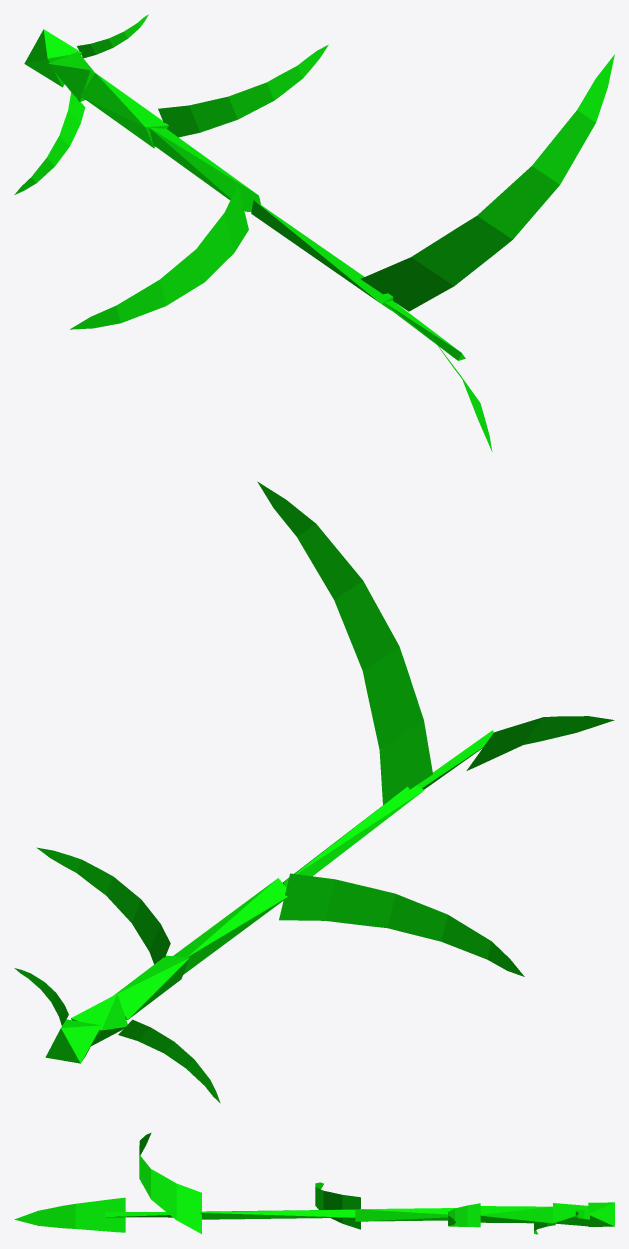
The model's file is usm_1_Beer_2018-08-08_3.obj.
3 views of the same model, one above another, from view 1: azimuth 30°, elevation 25°; view 2: azimuth 150°, elevation 25°; view 3: azimuth 270°, elevation 25° (orthographic). The views are drawn at different scales.
Parts seen in each view (by area): view 1: vid_12, vid_10, vid_8, vid_9, vid_7, vid_11, vid_6, vid_3, vid_5, vid_13, vid_4; view 2: vid_12, vid_10, vid_8, vid_9, vid_14, vid_7, vid_11, vid_6, vid_3, vid_5; view 3: vid_14, vid_12, vid_11, vid_7, vid_9, vid_10, vid_8, vid_5, vid_3, vid_13.
Part boxes in pixels (left/top/right/bottom): vid_12: left=361, top=54, right=614, bottom=311; vid_10: left=70, top=185, right=248, bottom=329; vid_8: left=158, top=44, right=328, bottom=137; vid_9: left=149, top=127, right=260, bottom=211; vid_7: left=80, top=73, right=168, bottom=148; vid_11: left=251, top=200, right=393, bottom=310; vid_6: left=14, top=92, right=85, bottom=194; vid_3: left=24, top=29, right=81, bottom=87; vid_5: left=48, top=51, right=94, bottom=102; vid_13: left=385, top=300, right=465, bottom=360; vid_4: left=77, top=14, right=148, bottom=58; vid_12: left=257, top=481, right=432, bottom=804; vid_10: left=279, top=873, right=524, bottom=976; vid_8: left=37, top=847, right=170, bottom=964; vid_9: left=173, top=878, right=287, bottom=974; vid_14: left=466, top=716, right=614, bottom=770; vid_7: left=113, top=955, right=189, bottom=1019; vid_11: left=282, top=785, right=424, bottom=887; vid_6: left=118, top=1019, right=220, bottom=1103; vid_3: left=45, top=1019, right=101, bottom=1063; vid_5: left=71, top=994, right=127, bottom=1046; vid_14: left=14, top=1197, right=125, bottom=1232; vid_12: left=139, top=1132, right=201, bottom=1233; vid_11: left=200, top=1209, right=355, bottom=1219; vid_7: left=479, top=1206, right=552, bottom=1223; vid_9: left=355, top=1208, right=455, bottom=1221; vid_10: left=315, top=1182, right=360, bottom=1229; vid_8: left=448, top=1203, right=480, bottom=1227; vid_5: left=553, top=1203, right=588, bottom=1226; vid_3: left=588, top=1202, right=614, bottom=1226; vid_13: left=105, top=1211, right=172, bottom=1217.
Size of the model in its own units: 40.37 by 29.19 by 85.7.
